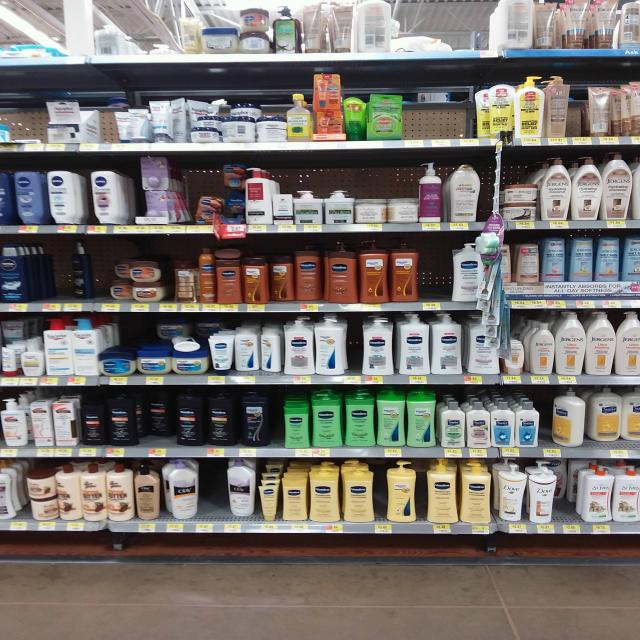void: (86, 82, 125, 158), (132, 3, 178, 66), (4, 86, 46, 154), (436, 82, 474, 150), (36, 242, 66, 314), (423, 234, 448, 315), (46, 18, 84, 68), (406, 84, 433, 151), (200, 460, 224, 534), (456, 5, 487, 60), (4, 19, 40, 66), (560, 468, 578, 537)
